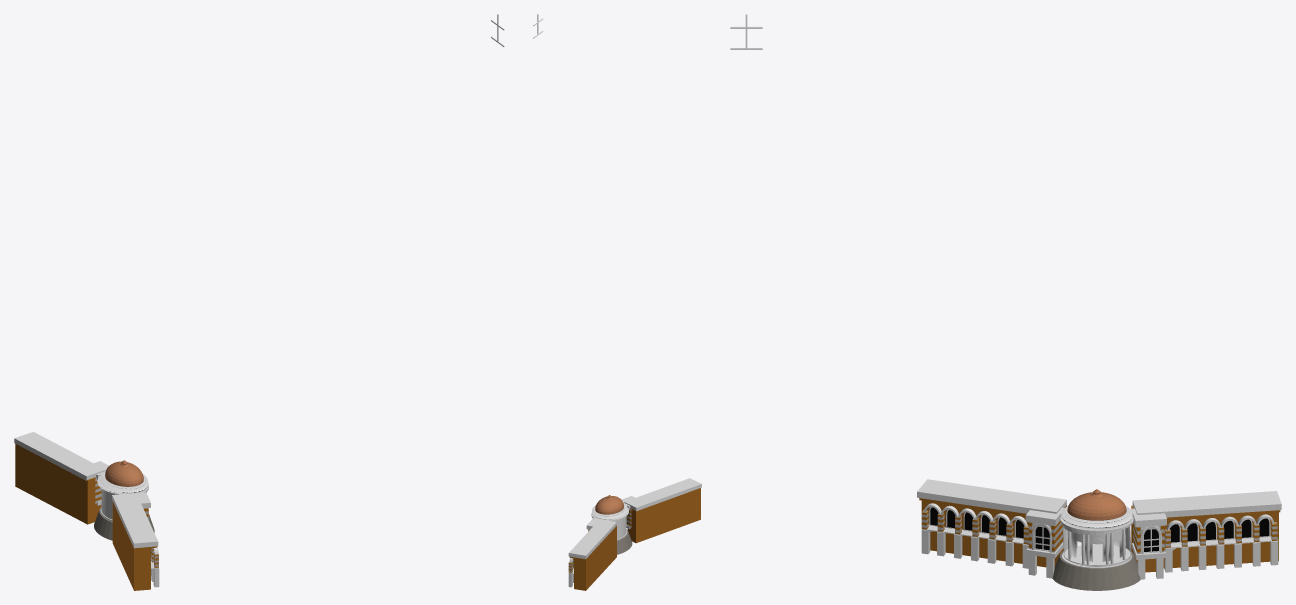
The model's file is postoff.glb.
3 views of the same model, side by side, from view 1: azimuth 30°, elevation 25°; view 2: azimuth 150°, elevation 25°; view 3: azimuth 270°, elevation 25° (orthographic). The views are drawn at different scales.
Visible parts, largest first — view 1: Cube.001, Cube.037, Cube.006, Cube.038, Cube.044, Sphere; view 2: Cube.037, Cube.001, Cube.006, Cube.044, Sphere, Cube.038; view 3: Cube.006, Cube.038, Cylinder.072, Cube.001, Cube.037, Sphere, Cylinder.006, Cylinder.039.
Boxes of the visible parts, box(x1,y1,x2,y2) form: Cube.001: box(15, 444, 97, 524); Cube.037: box(112, 501, 150, 590); Cube.006: box(14, 432, 105, 480); Cube.038: box(112, 493, 140, 546); Cube.044: box(126, 493, 158, 548); Sphere: box(105, 461, 143, 486); Cube.037: box(628, 488, 700, 543); Cube.001: box(574, 526, 616, 590); Cube.006: box(568, 519, 616, 559); Cube.044: box(625, 478, 701, 507); Sphere: box(595, 496, 623, 514); Cube.038: box(624, 484, 700, 511); Cube.006: box(1132, 491, 1281, 517); Cube.038: box(918, 479, 1066, 513); Cylinder.072: box(1052, 551, 1140, 590); Cube.001: box(1131, 505, 1278, 568); Cube.037: box(921, 500, 1066, 567); Sphere: box(1067, 492, 1126, 520); Cylinder.006: box(1071, 530, 1122, 561); Cylinder.039: box(1068, 529, 1125, 564).
Size of what is drawn, in the model's own units: 16.53 by 30.13 by 21.3.
7 materials, 1 textured.
